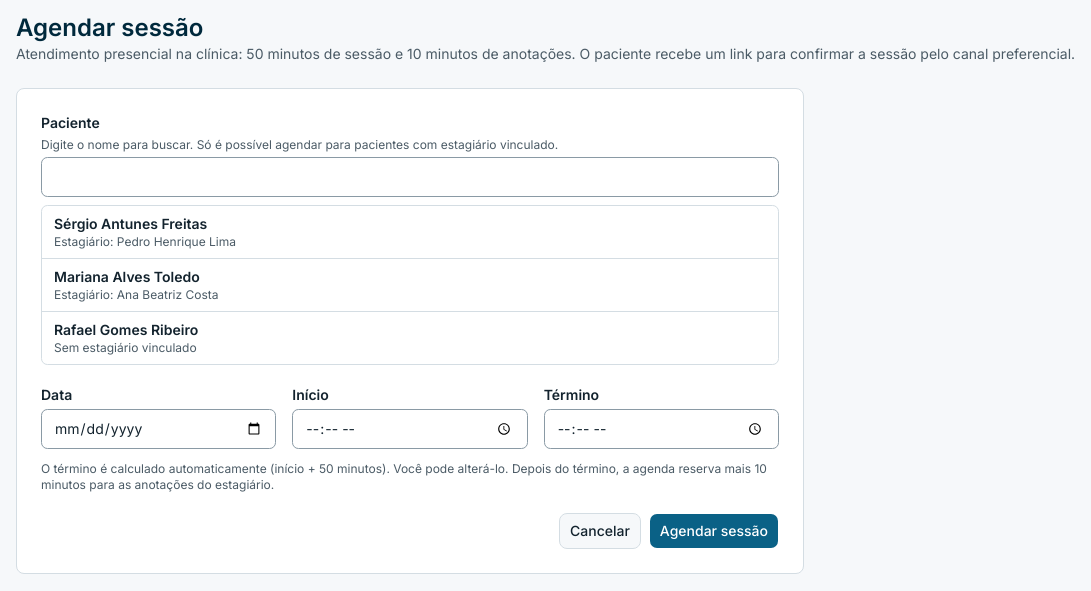
Test: Agendar sessão (RF10) › paciente sem estagiário vinculado: avisa e não deixa agendar
Click the button "Rafael Gomes Ribeiro Sem estagiário vinculado". click: [126, 330]
box: [42,312,778,364]
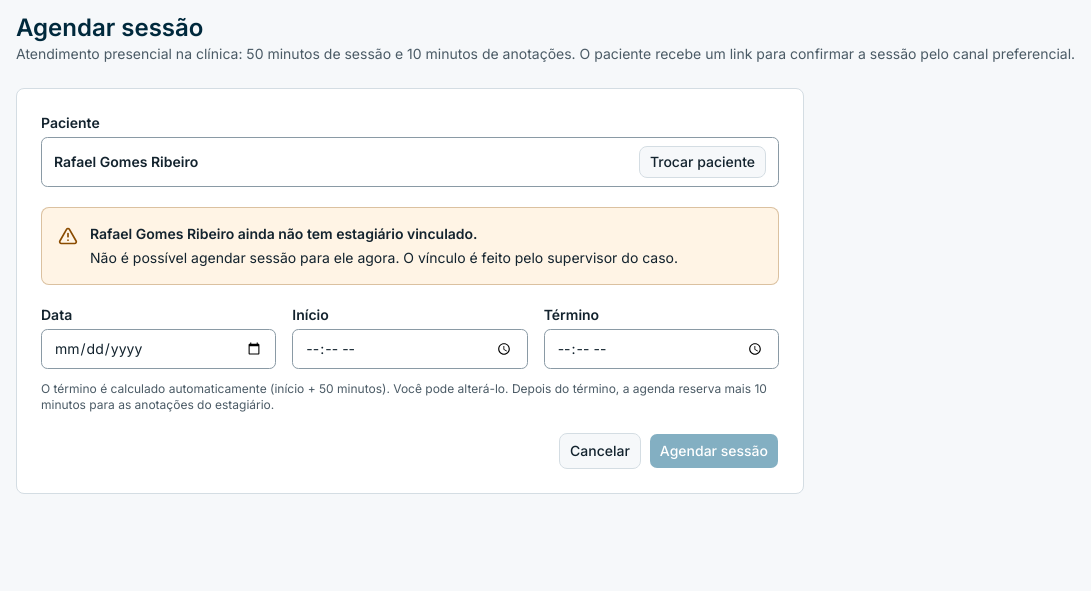
Check: the text "Rafael Gomes Ribeiro ainda não tem estagiário vinculado." is shown, box [90,225,478,242]
Check: the button "Agendar sessão" is disabled, box [649,433,779,469]
